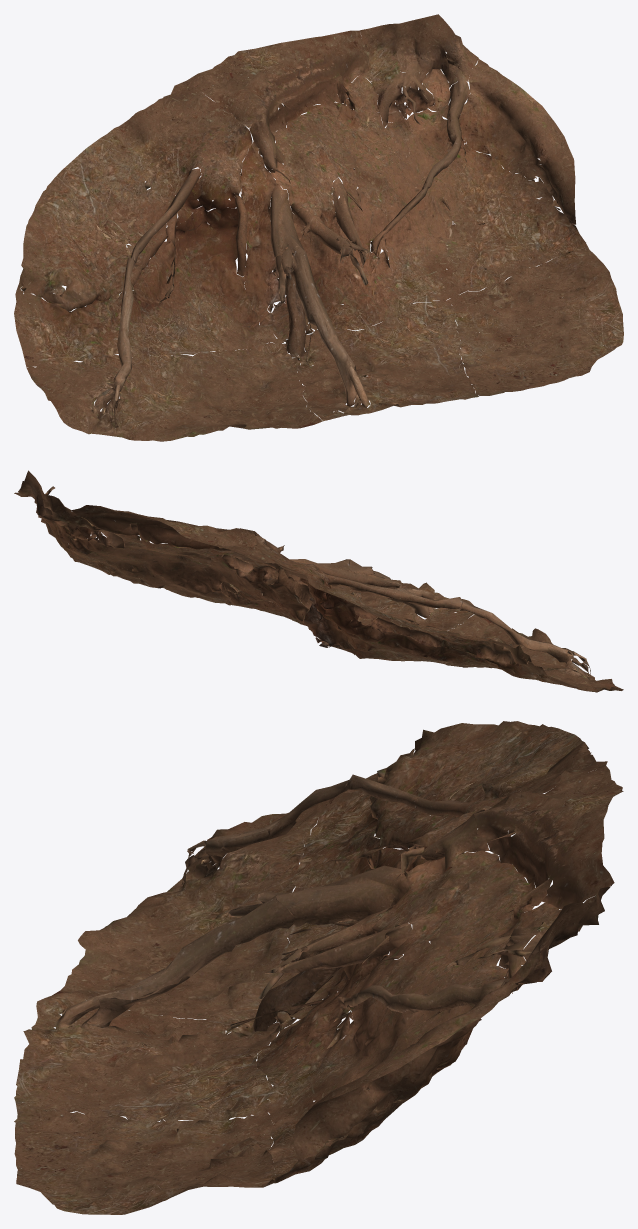
Rendered from root_cluster.glb.
The picture shows the model from 3 angles, top to bottom: view 1: azimuth 30°, elevation 25°; view 2: azimuth 150°, elevation 25°; view 3: azimuth 270°, elevation 25°; orthographic projection. The views are drawn at different scales.
Visible parts, largest first — view 1: root_cluster; view 2: root_cluster; view 3: root_cluster.
Part boxes in pixels (x1,y1,x2,y2): root_cluster: [14, 14, 623, 441]; root_cluster: [14, 470, 623, 692]; root_cluster: [14, 721, 623, 1214].
Bounding box in the file's own units: 4.12 × 1.51 × 2.69.
Materials: 1 (1 with a texture image).
